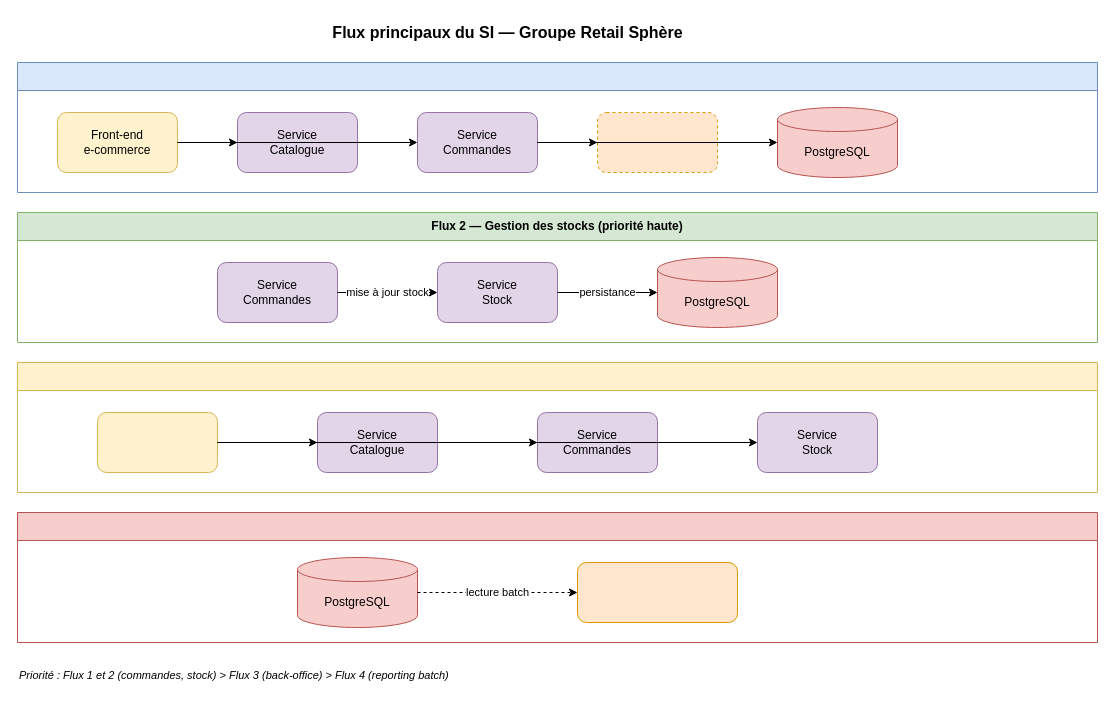
The diagram is 1115 pixels wide and 709 high, and some of its shapes have lost their labels. The box of each missing label's shape, as (x1, y1, x2, y2) in pixels:
API Paiement: (596, 112, 718, 172)
Back-office interne: (96, 412, 218, 472)
Flux 1 — Parcours client (priorité haute): (16, 62, 1098, 192)
Flux 3 — Back-office: (16, 362, 1098, 492)
Flux 4 — Reporting (batch): (16, 512, 1098, 642)
Outil de reporting (Python ETL): (576, 562, 738, 622)
